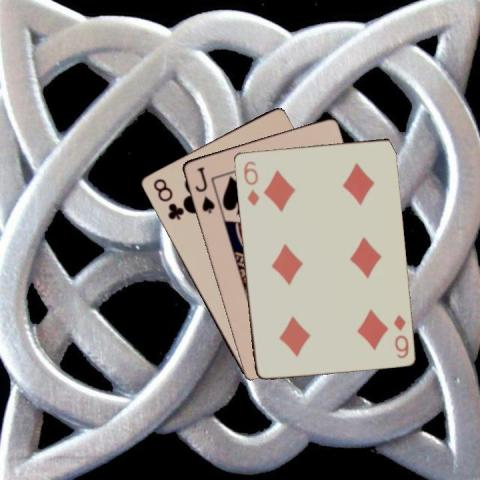6d: (240, 158, 261, 207), (390, 311, 410, 360)
8c: (149, 176, 184, 222)
Js: (191, 163, 216, 215)
